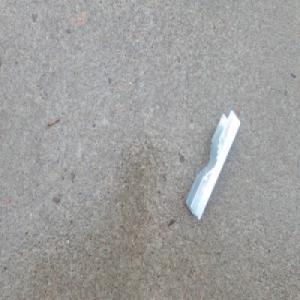ClampPart: (186, 110, 241, 222)
